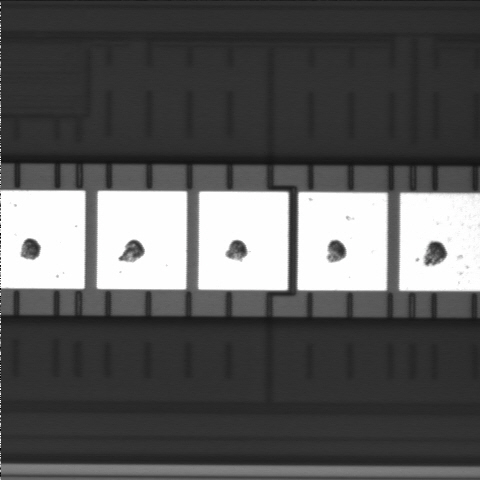pad: (97, 191, 187, 289), (198, 192, 288, 290), (298, 192, 387, 291)
